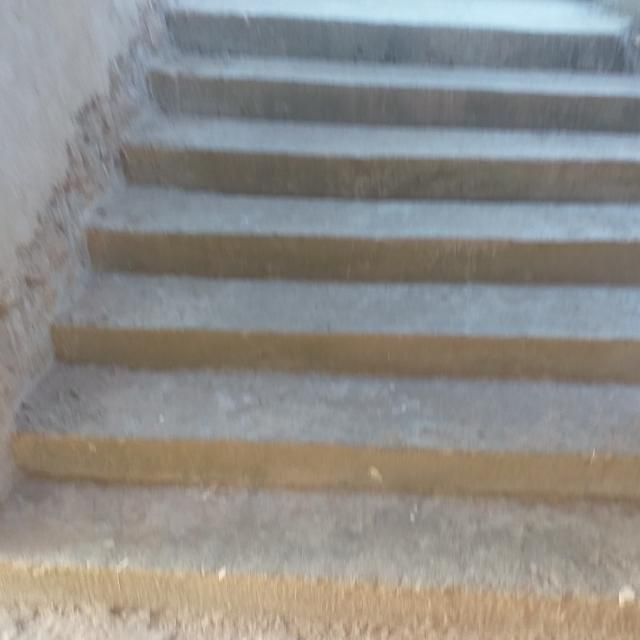Stairs: (0, 1, 639, 612)
